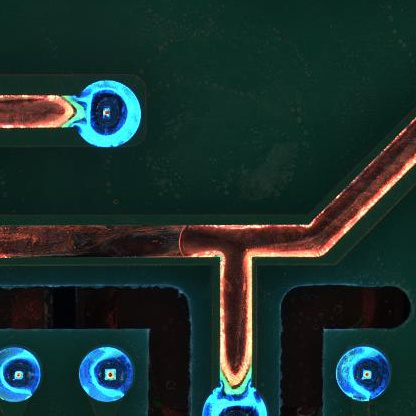spot: (79, 79, 141, 147), (333, 346, 393, 404), (79, 346, 136, 403), (1, 347, 42, 403)
